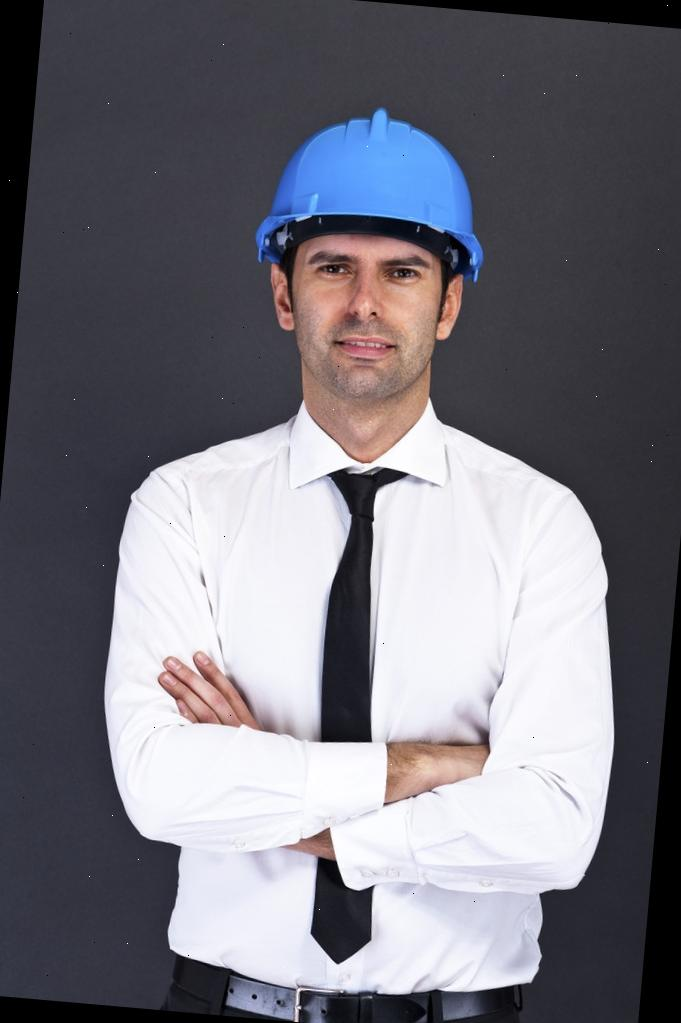helmet: (246, 94, 494, 285)
no_wear: (82, 424, 598, 990)
